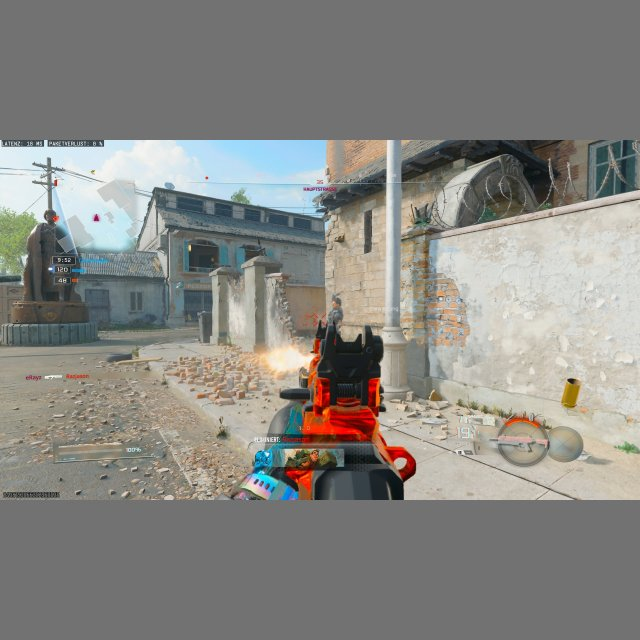head: (44, 209, 58, 224), (332, 294, 341, 307)
player: (328, 295, 343, 329), (281, 311, 295, 341)
